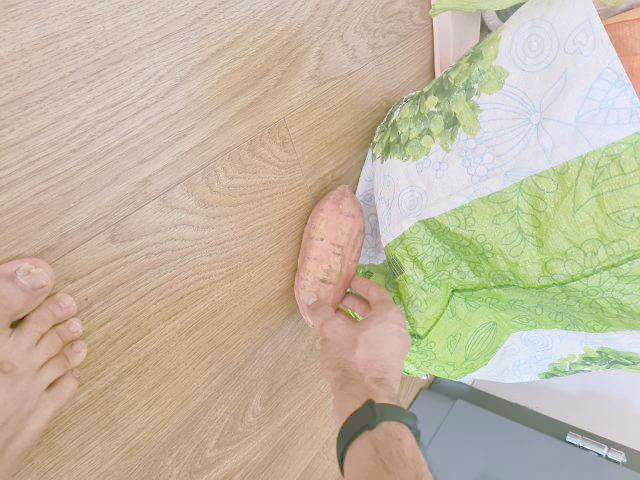sweet_potato: (293, 181, 365, 326)
